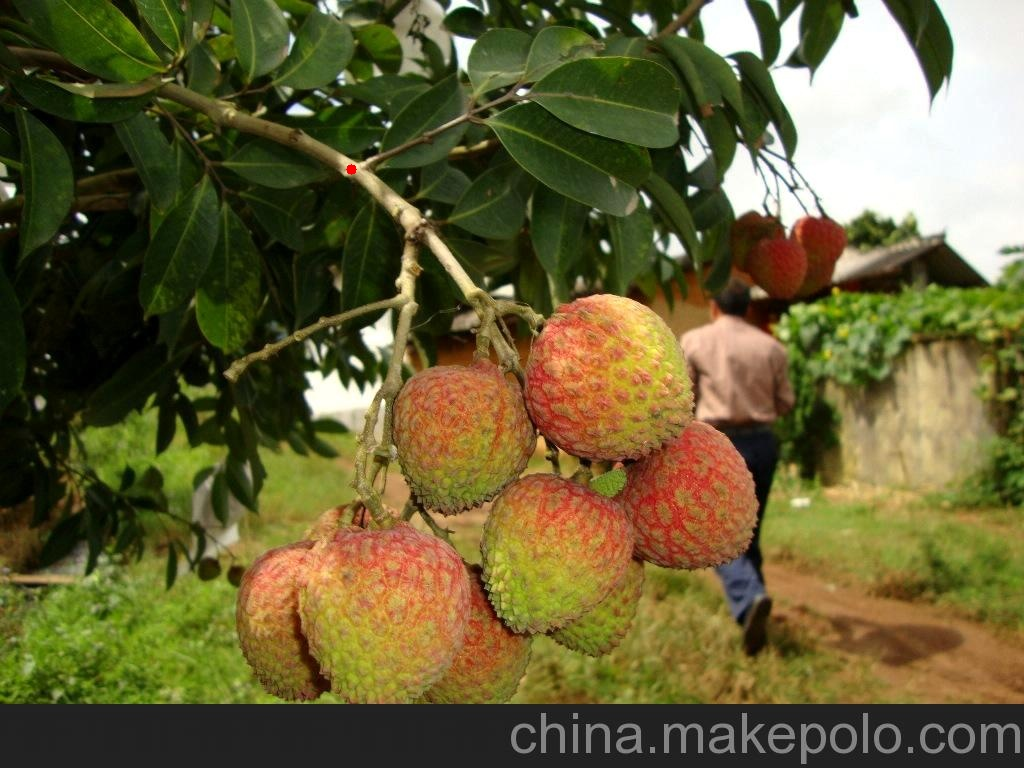litchi: (249, 314, 749, 696)
stem: (167, 84, 454, 264)
